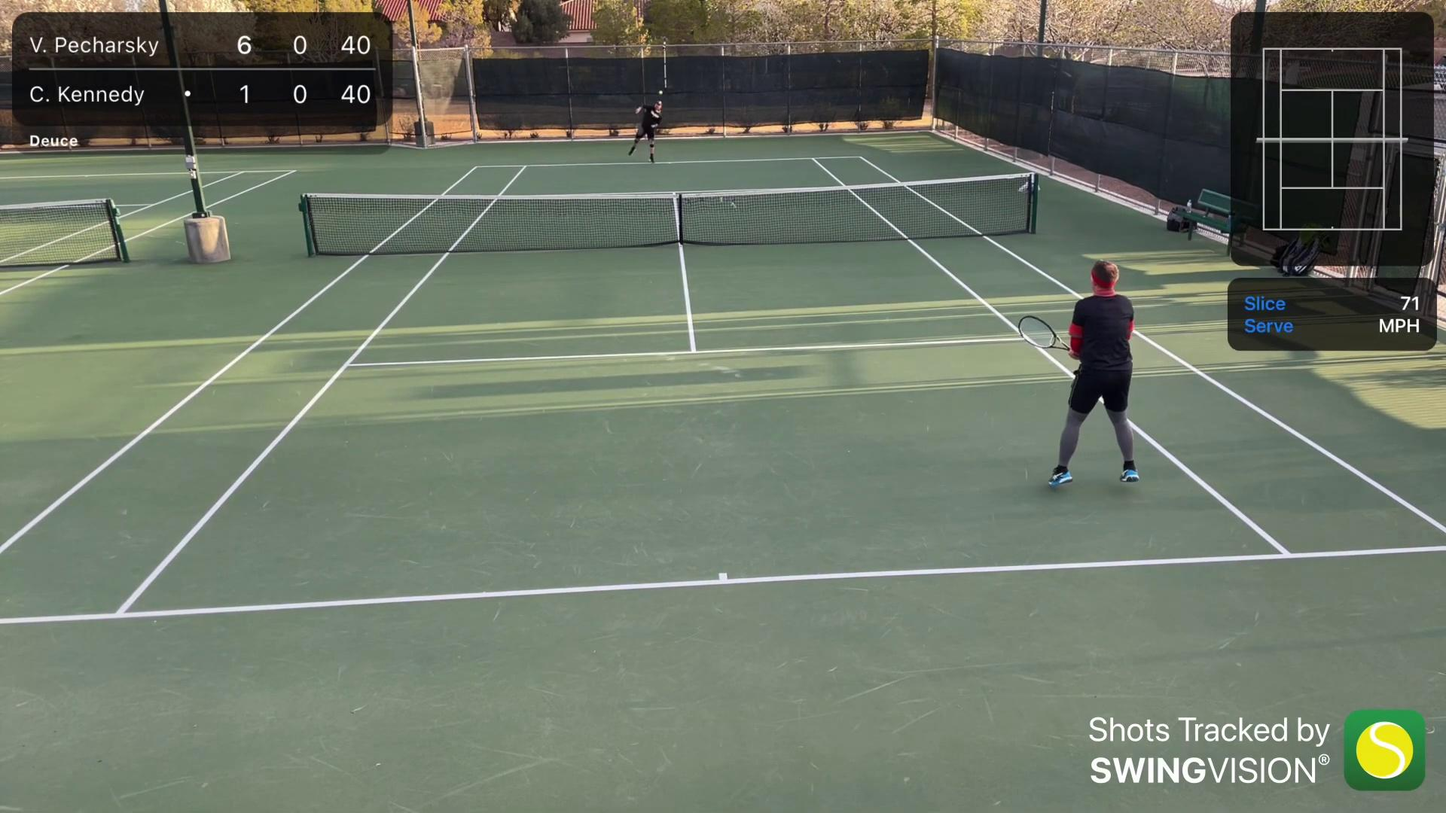ball: (658, 90, 665, 97)
